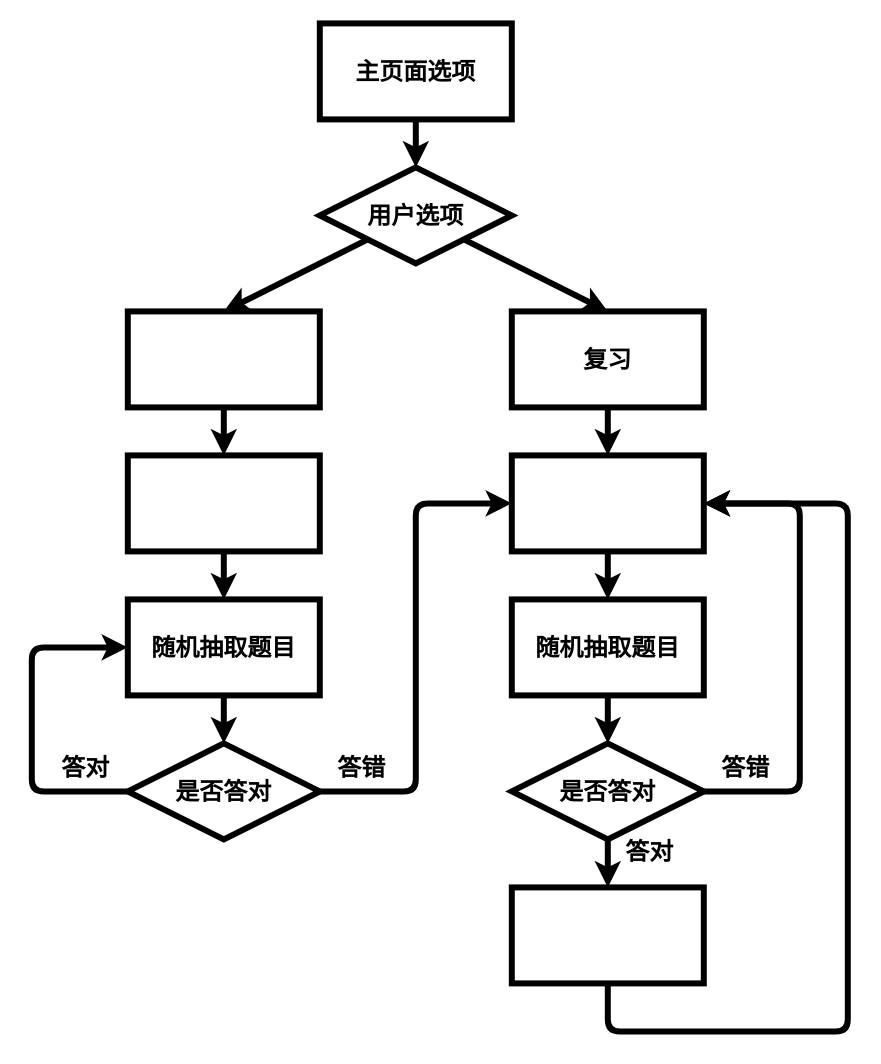
This 881x1064 diagram has some shape labels left out. The centre of each missing label's shape, as x and y in pixels:
从错题文件中 删除题目: point (607, 935)
考试: point (223, 359)
调用错题文件: point (607, 503)
调用题库文件: point (223, 503)
